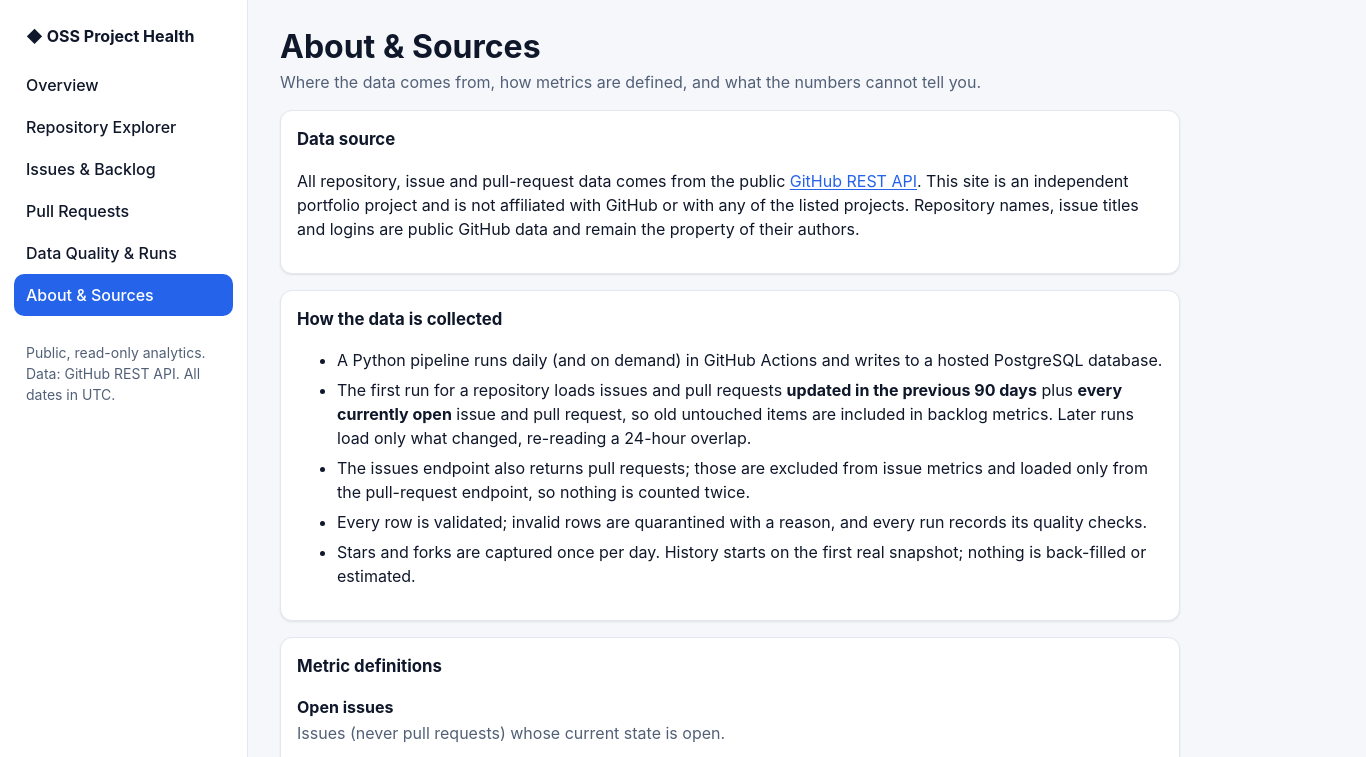
it: navigation › navigates between pages through the nav links
What coordinates should you click on to do the following:
click the link "Pull Requests"
I would click on:
 (78, 211)
Its box is [26, 201, 129, 221].
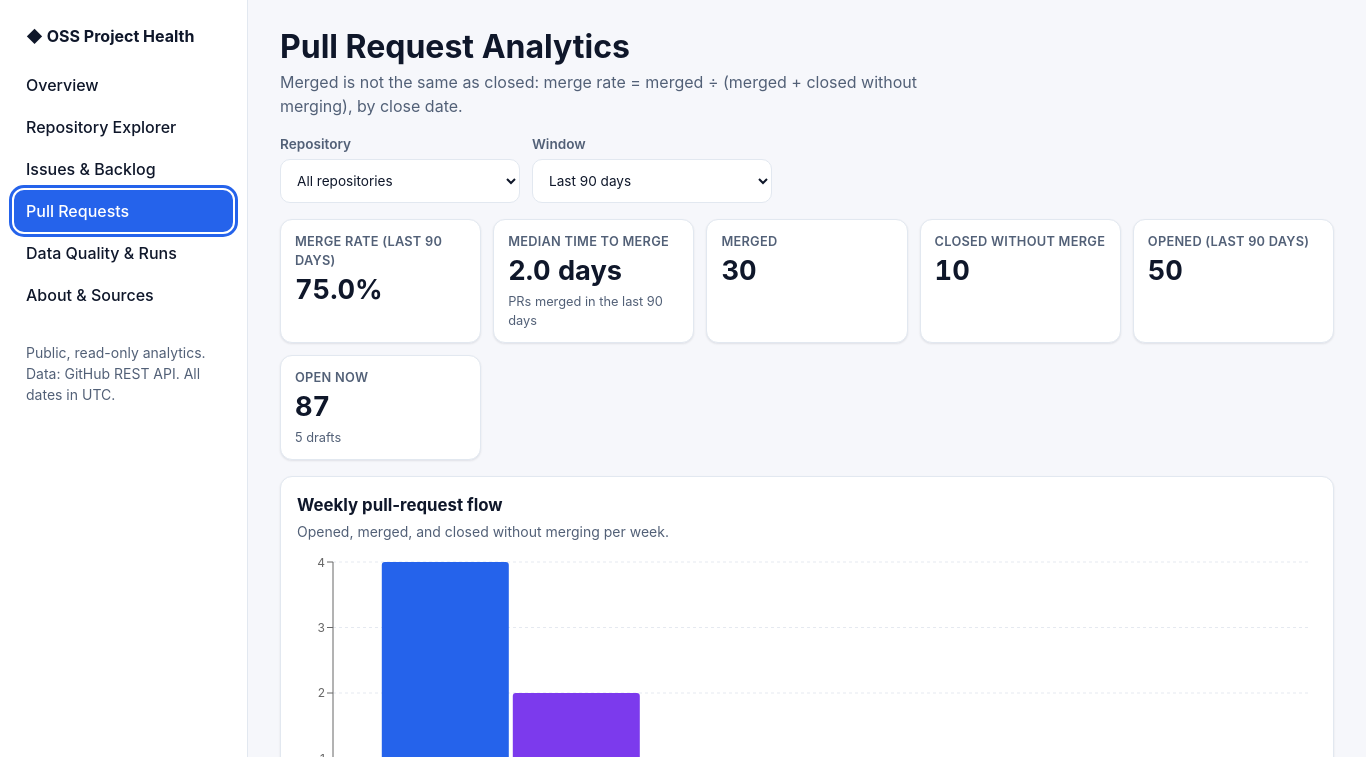
Result: the heading "Pull Request Analytics" is shown at [280, 27, 630, 66]
